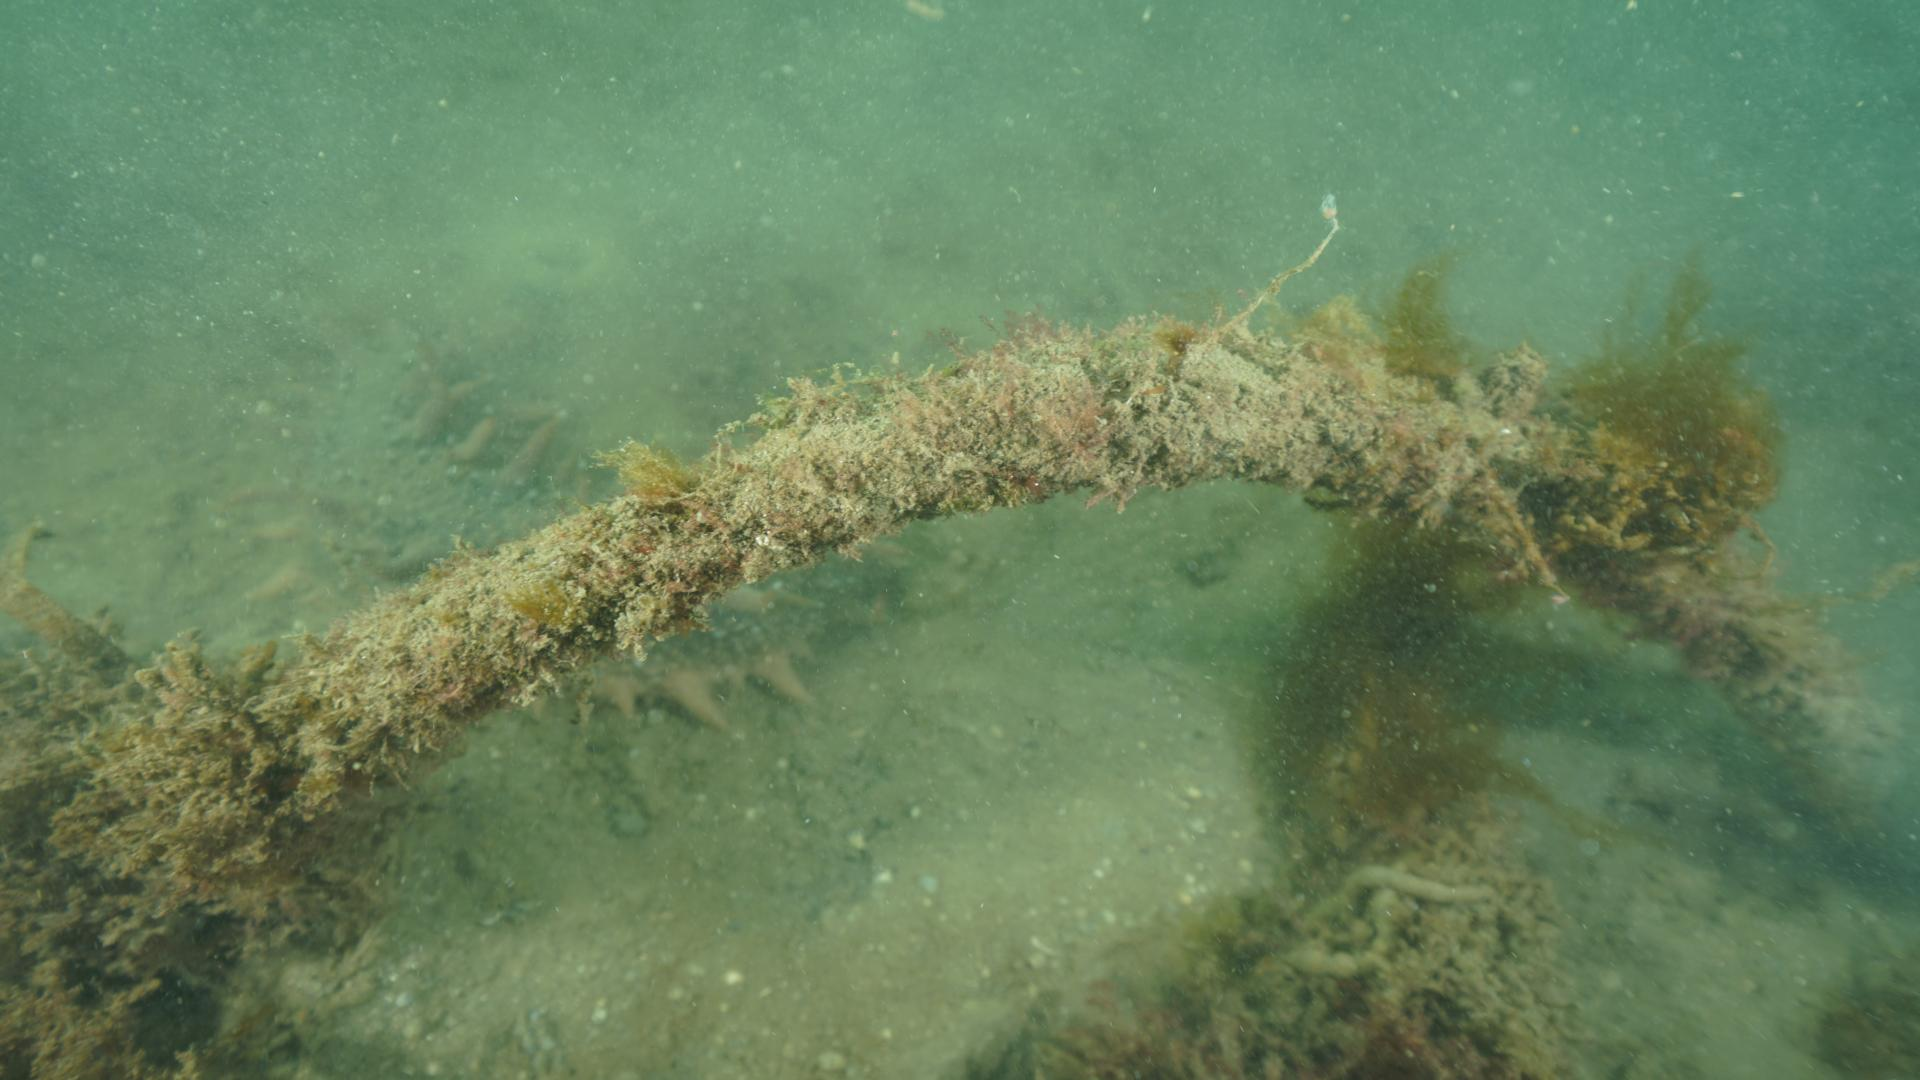rope: (270, 320, 1648, 774)
